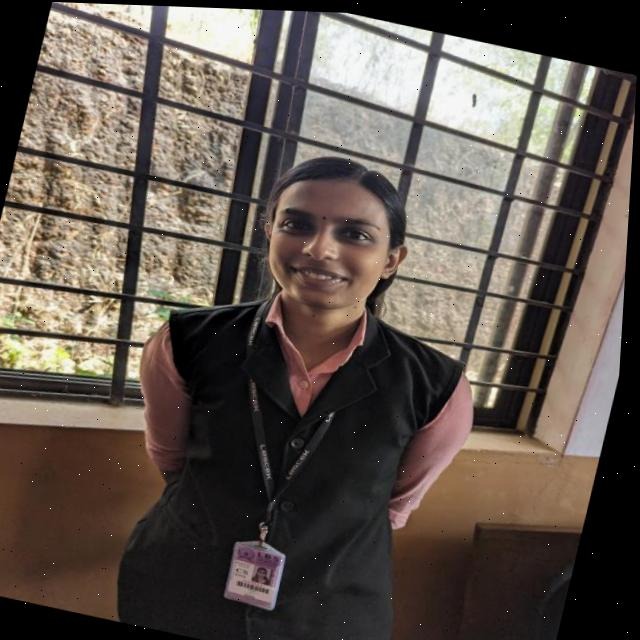id_card: (179, 290, 407, 638)
